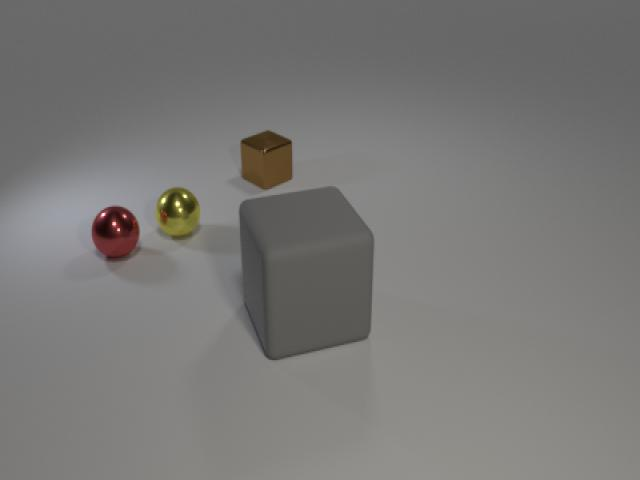round ball: (86, 200, 142, 264), (151, 180, 204, 242)
